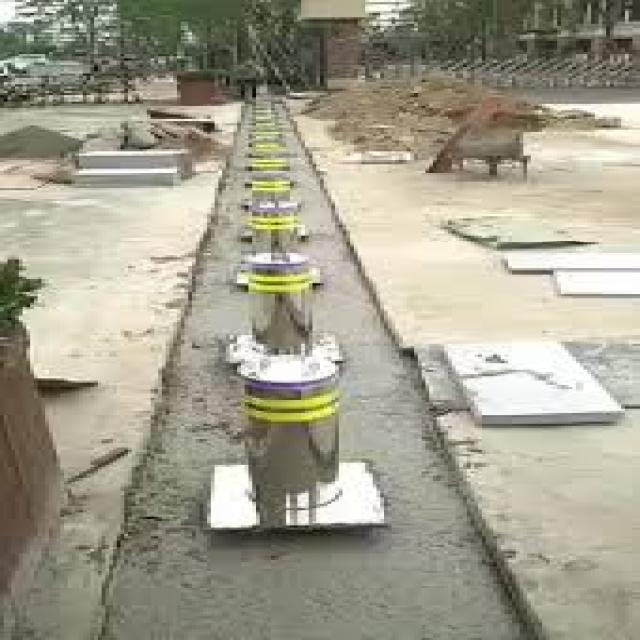bollard: (226, 341, 410, 547), (215, 250, 367, 375), (212, 192, 324, 252), (223, 170, 317, 191), (231, 150, 303, 166)
